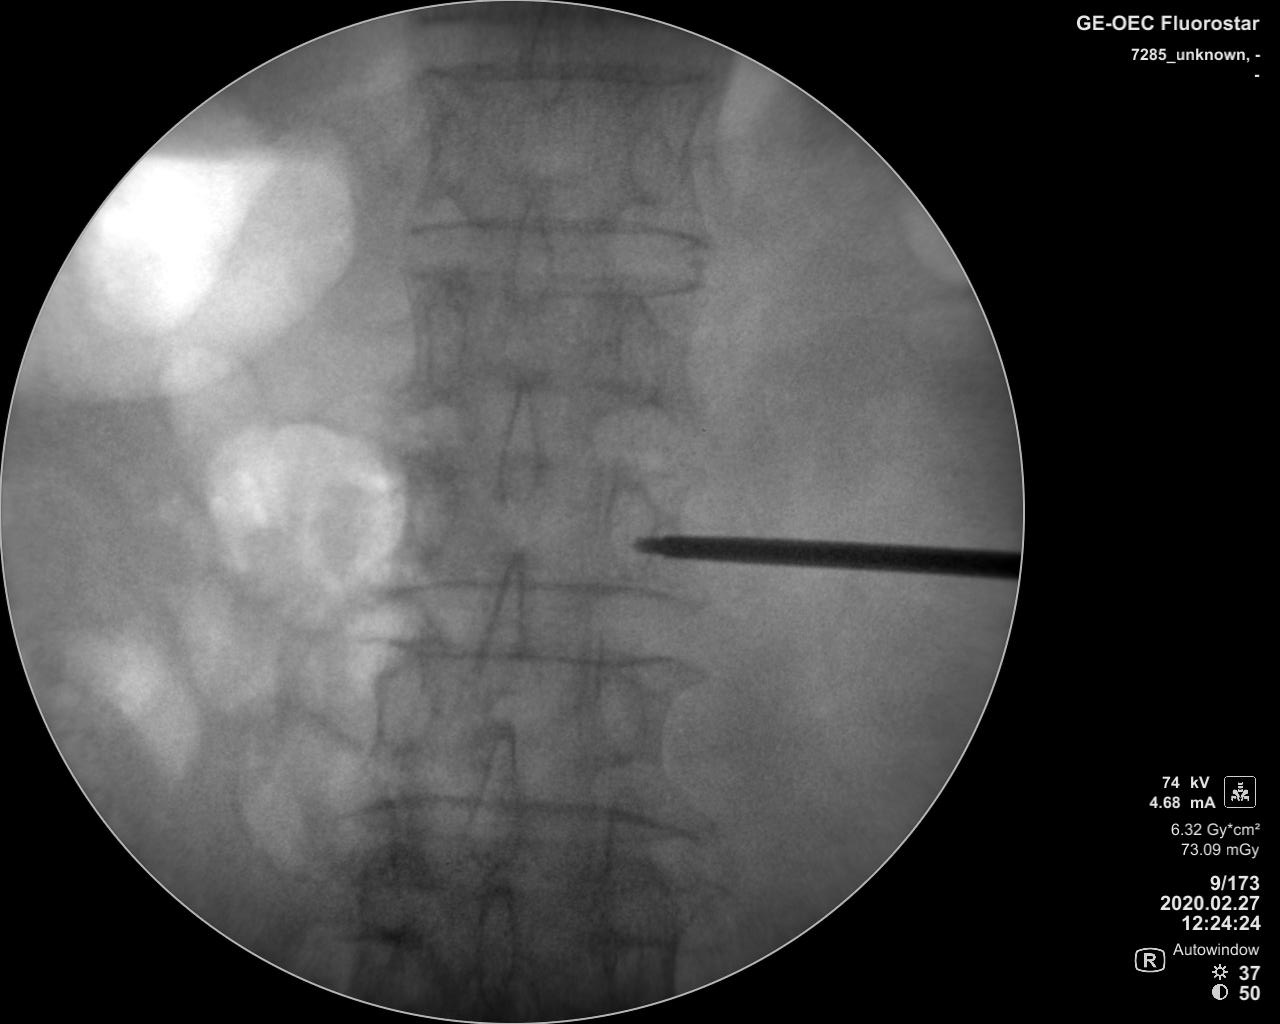eyes: (594, 857, 682, 948), (586, 672, 656, 768), (370, 647, 432, 755), (358, 847, 423, 941), (598, 478, 657, 577), (400, 461, 465, 552), (614, 310, 674, 390), (623, 126, 682, 199)
line: (347, 785, 696, 848), (378, 571, 707, 610), (388, 265, 720, 304), (376, 634, 704, 673), (406, 52, 734, 91), (396, 217, 722, 253)
nose: (466, 551, 534, 714), (461, 719, 526, 872), (493, 375, 544, 507), (502, 205, 558, 318), (472, 883, 521, 1008), (519, 5, 572, 110)
